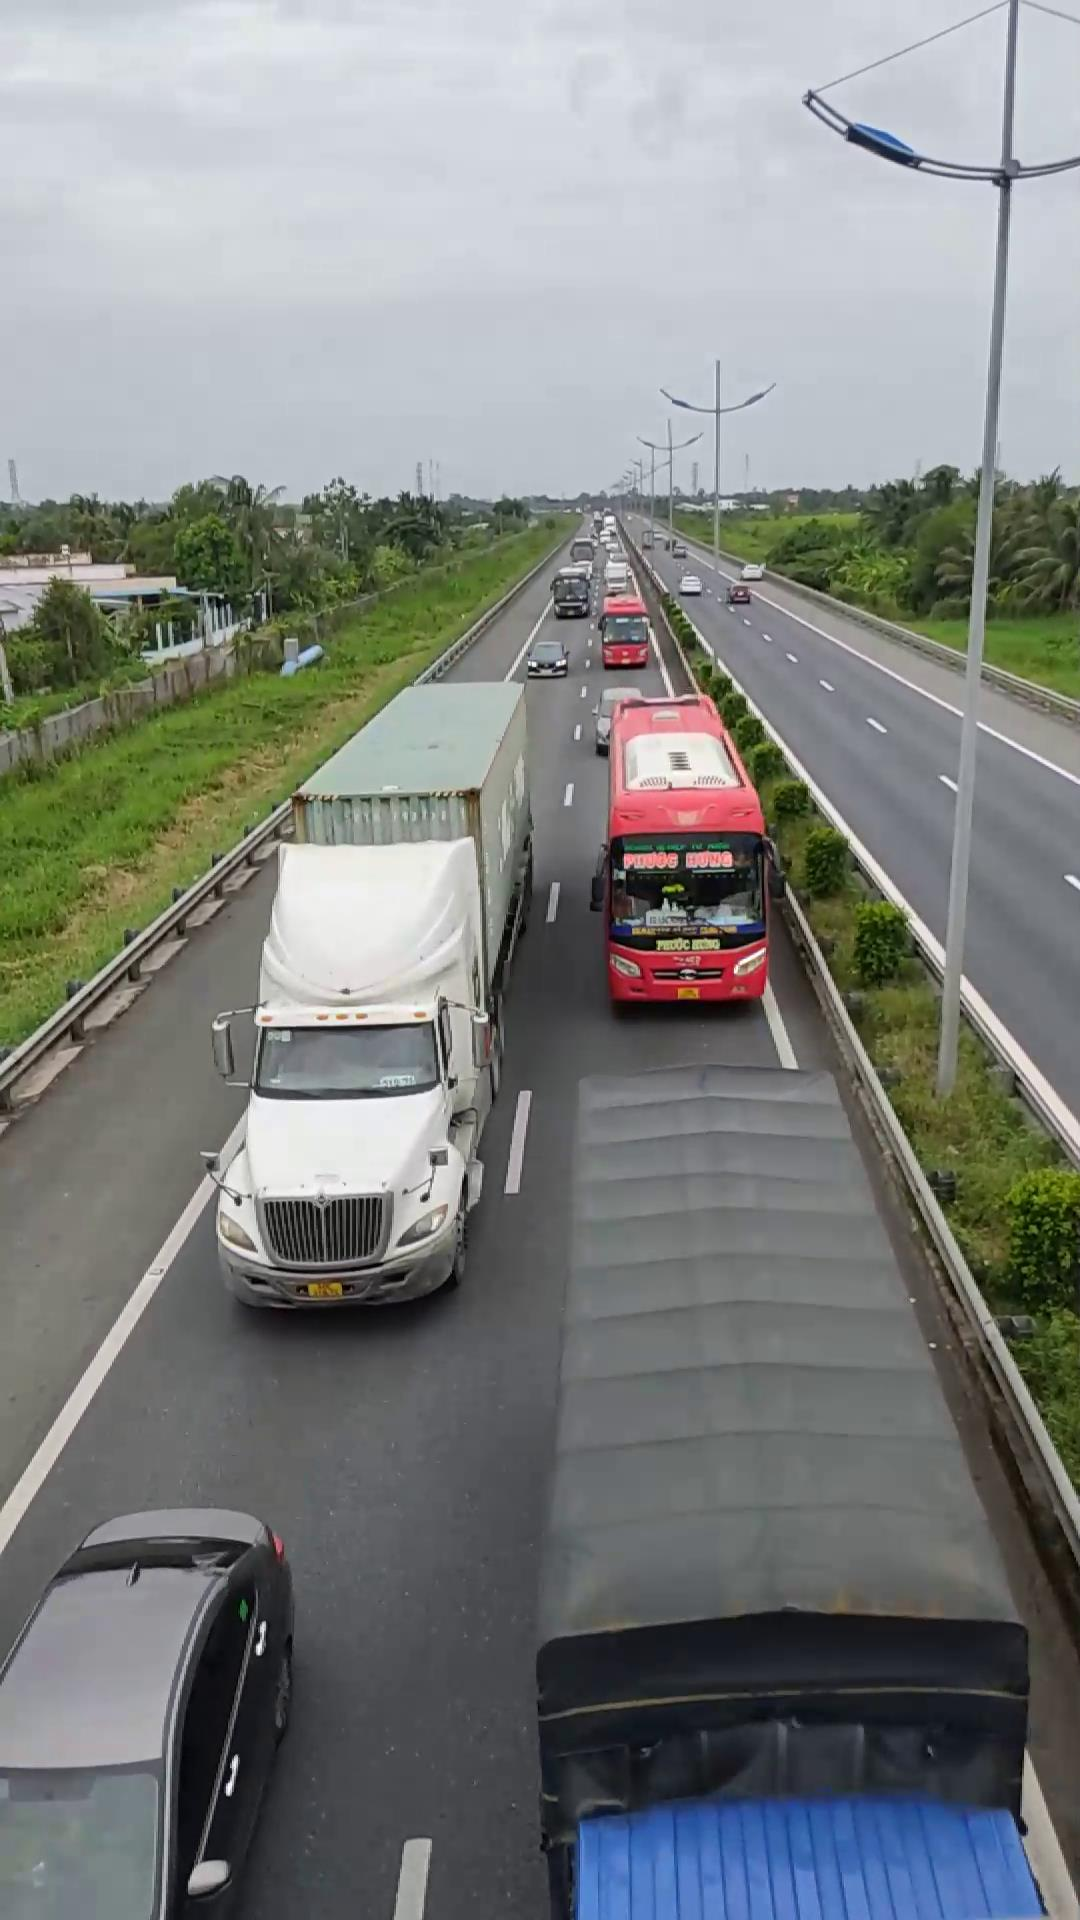bus: (593, 686, 776, 1005)
car: (0, 1504, 301, 1918)
container: (213, 671, 534, 1311)
truck: (558, 1057, 1052, 1909)
